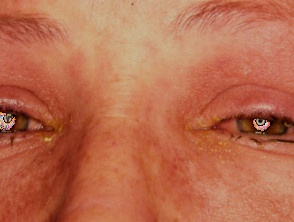SJS-TEN: (176, 111, 243, 165), (24, 111, 75, 151)
